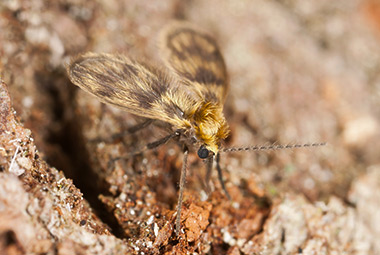phorid fly: (62, 11, 327, 219)
